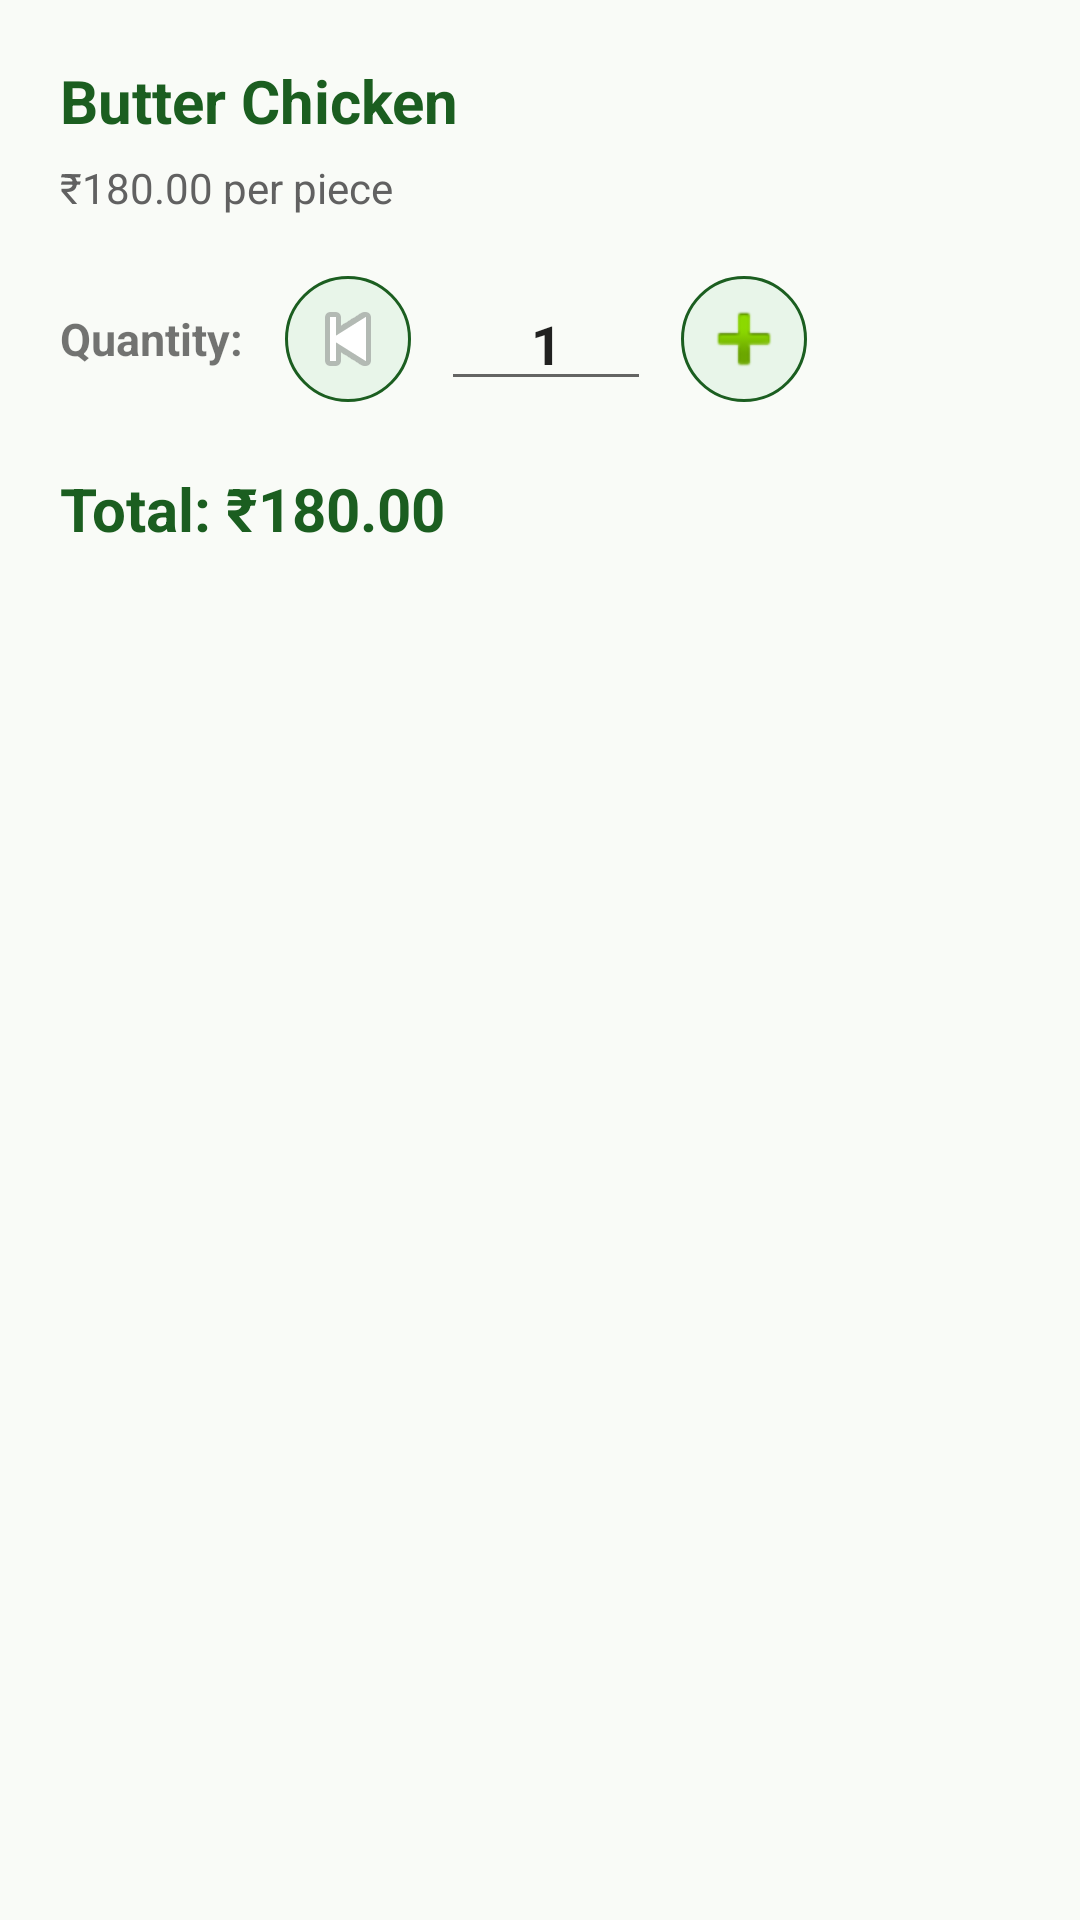

Screen size 1080x1920. Icon name, then its center in pixels as (x=x, y=y):
Increase quantity: (x=744, y=339)
